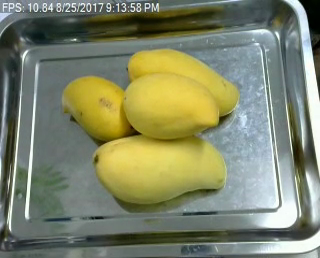Mango: (92, 131, 226, 204), (127, 49, 241, 117), (121, 71, 222, 138), (60, 73, 143, 144)
